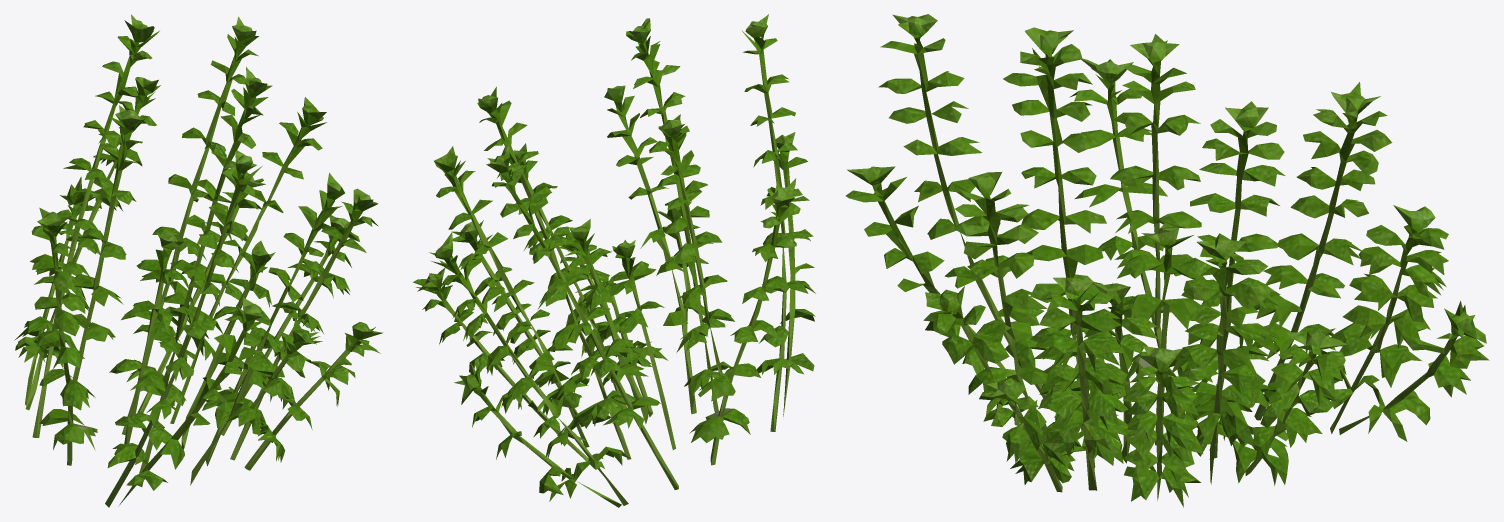
File: limnophila-sessiliflora.glb
The picture shows the model from 3 angles, left to right: view 1: azimuth 30°, elevation 25°; view 2: azimuth 150°, elevation 25°; view 3: azimuth 270°, elevation 25°; orthographic projection. The views are drawn at different scales.
Parts seen in each view (by area): view 1: tripo_node_7b7c7d43-9ca1-4256-9aaa-bac395a18d1b; view 2: tripo_node_7b7c7d43-9ca1-4256-9aaa-bac395a18d1b; view 3: tripo_node_7b7c7d43-9ca1-4256-9aaa-bac395a18d1b.
Boxes of the visible parts, x1,y1,x2,y2 form: tripo_node_7b7c7d43-9ca1-4256-9aaa-bac395a18d1b: (14,14,383,507); tripo_node_7b7c7d43-9ca1-4256-9aaa-bac395a18d1b: (413,14,815,507); tripo_node_7b7c7d43-9ca1-4256-9aaa-bac395a18d1b: (845,14,1489,507).
Bounding box in the file's own units: 0.6929 × 0.7723 × 0.9703.
1 material, 1 textured.
